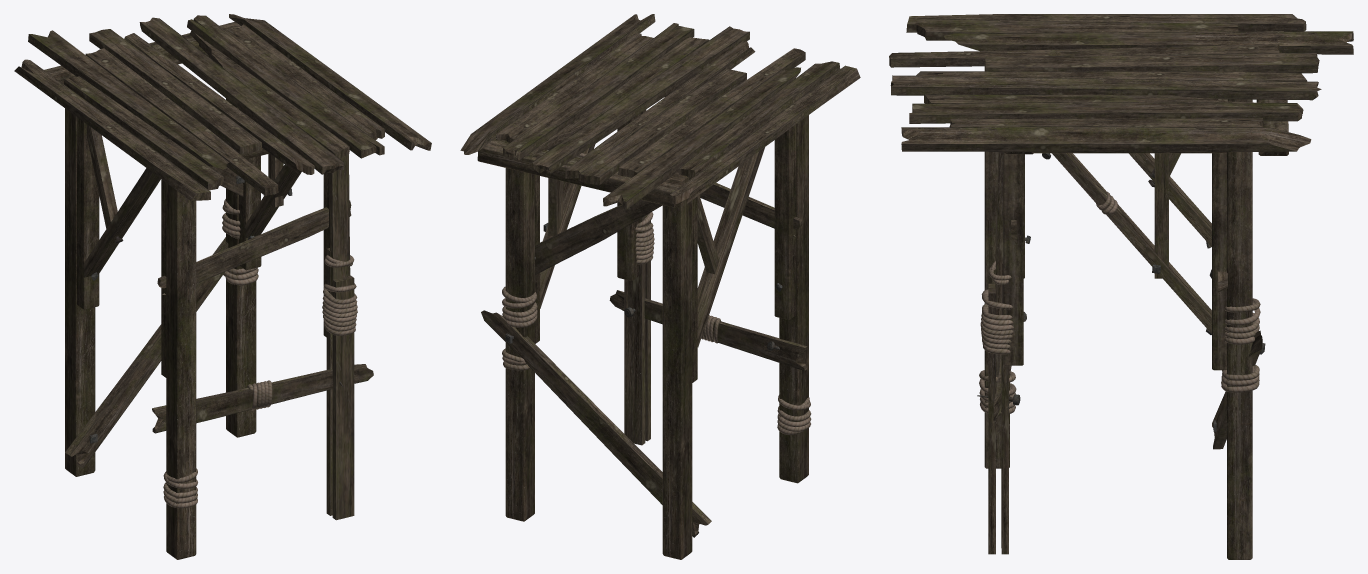
Rendered from dock_main03.fbx.
The picture shows the model from 3 angles, left to right: view 1: azimuth 30°, elevation 25°; view 2: azimuth 150°, elevation 25°; view 3: azimuth 270°, elevation 25°; orthographic projection. The views are drawn at different scales.
Visible parts, largest first — view 1: dock_main03; view 2: dock_main03; view 3: dock_main03.
Boxes of the visible parts, x1,y1,x2,y2 form: dock_main03: (14, 14, 431, 559); dock_main03: (460, 14, 860, 559); dock_main03: (889, 14, 1353, 559).
Size of the model in its own units: 453 by 733 by 702.
